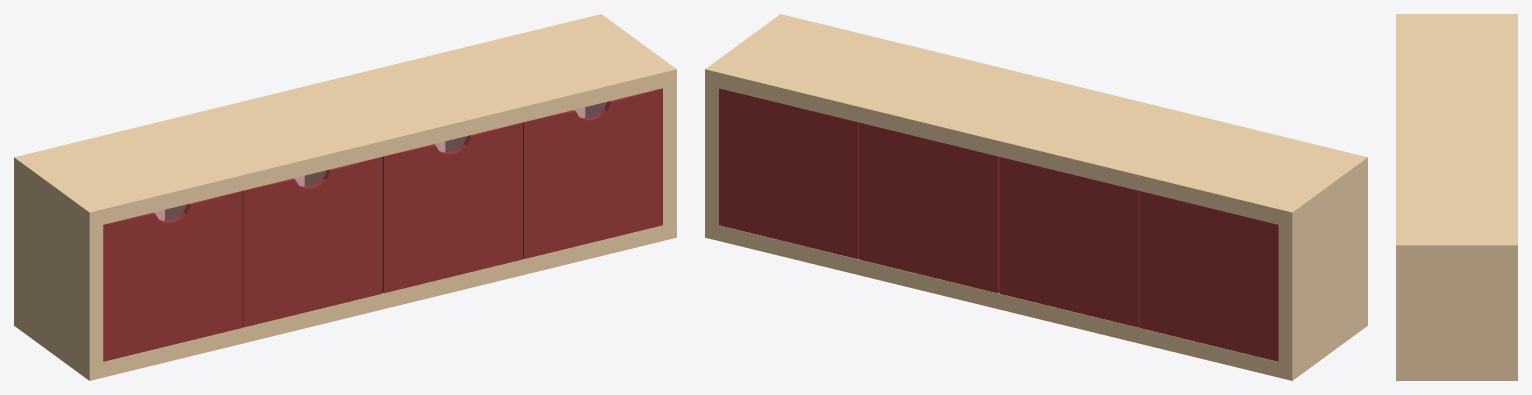
File: Prop_WallShelf_01.fbx
3 views of the same model, side by side, from view 1: azimuth 30°, elevation 25°; view 2: azimuth 150°, elevation 25°; view 3: azimuth 270°, elevation 25° (orthographic). The views are drawn at different scales.
Parts seen in each view (by area): view 1: Prop_WallShelf_01; view 2: Prop_WallShelf_01; view 3: Prop_WallShelf_01.
Boxes of the visible parts, left/top/right/bottom form: Prop_WallShelf_01: left=14, top=14, right=676, bottom=380; Prop_WallShelf_01: left=705, top=14, right=1367, bottom=380; Prop_WallShelf_01: left=1396, top=14, right=1517, bottom=380.
Bounding box in the file's own units: 46.53 × 12.75 × 10.36.
